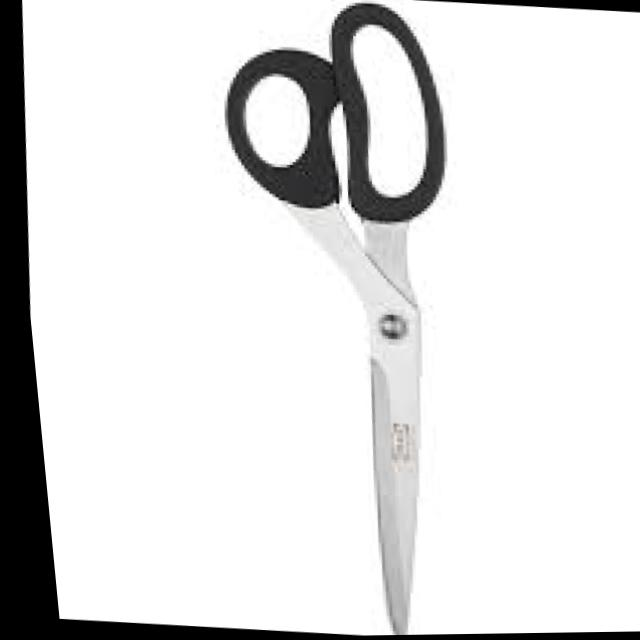scissor: (174, 0, 490, 638)
